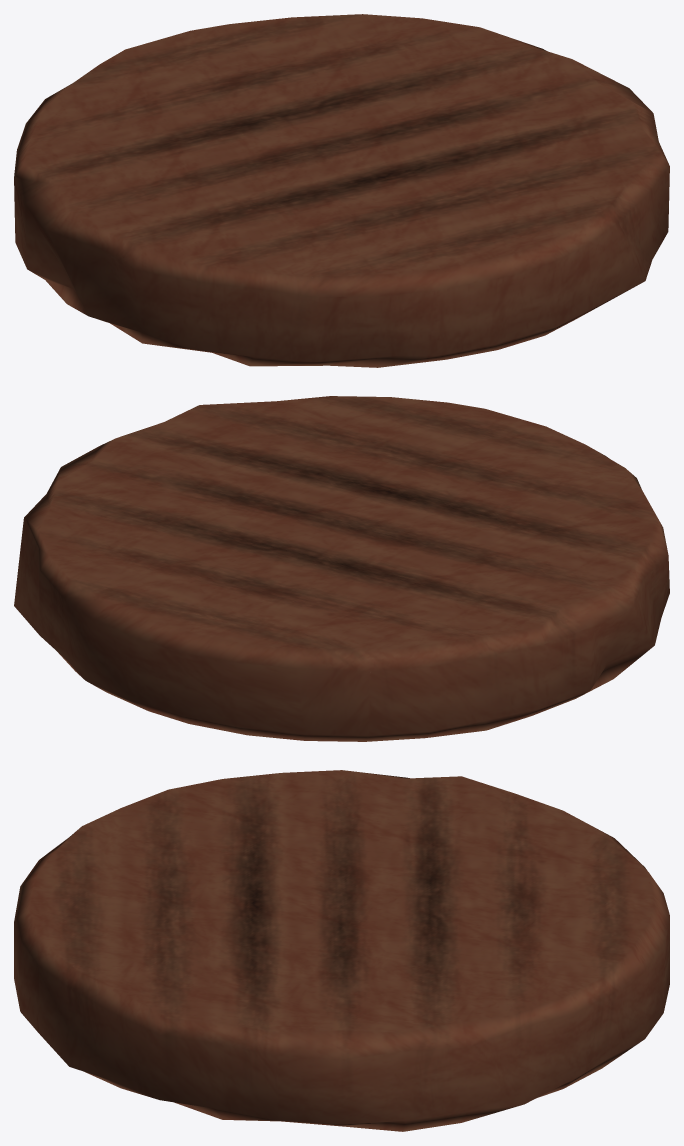
The model's file is MeatCooked.fbx.
3 renders of one model, top to bottom at view 1: azimuth 30°, elevation 25°; view 2: azimuth 150°, elevation 25°; view 3: azimuth 270°, elevation 25°, orthographic. The views are drawn at different scales.
Visible parts, largest first — view 1: Cooked meat patty; view 2: Cooked meat patty; view 3: Cooked meat patty.
Part boxes in pixels (x1,y1,x2,y2): Cooked meat patty: [14, 14, 669, 367]; Cooked meat patty: [14, 396, 669, 741]; Cooked meat patty: [14, 770, 669, 1131].
Bounding box in the file's own units: 22.36 × 3.39 × 21.59.
